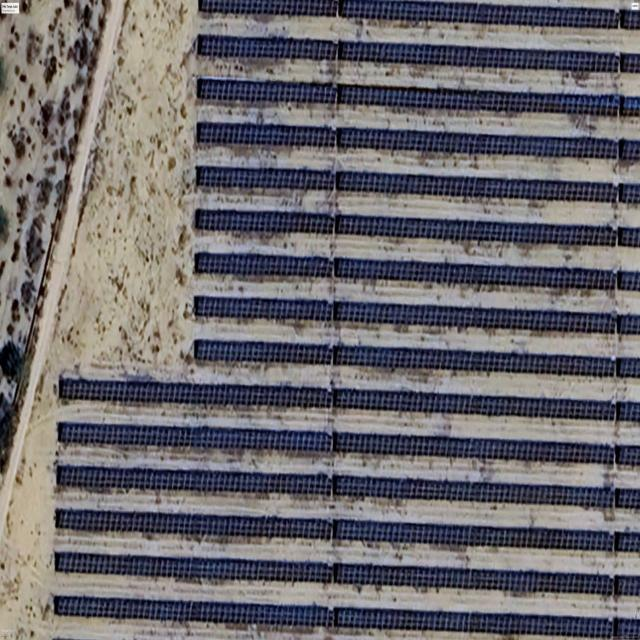Solar Panels: (57, 422, 640, 468), (54, 552, 640, 597), (55, 508, 640, 553), (59, 377, 640, 422), (56, 465, 640, 509), (54, 596, 640, 638), (196, 122, 640, 163), (194, 252, 640, 292), (193, 296, 640, 335), (194, 209, 640, 248), (194, 340, 640, 379), (196, 34, 640, 73), (196, 78, 640, 117), (196, 166, 640, 203), (198, 0, 640, 30)
